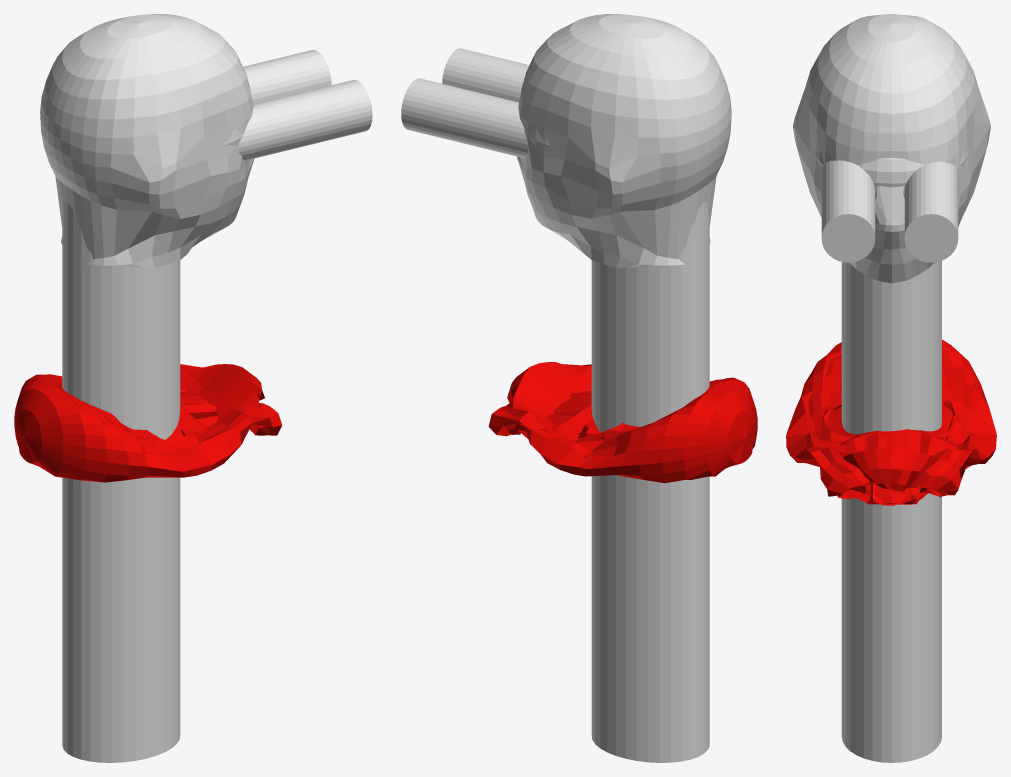
File: mask1.fbx
3 renders of one model, left to right at view 1: azimuth 30°, elevation 25°; view 2: azimuth 150°, elevation 25°; view 3: azimuth 270°, elevation 25°, orthographic.
Parts seen in each view (by area): view 1: Cylinder.002, Sphere.001, Sphere, Cylinder, Cylinder.001; view 2: Cylinder.002, Sphere.001, Sphere, Cylinder.001, Cylinder; view 3: Cylinder.002, Sphere.001, Sphere, Cylinder, Cylinder.001, Sphere.002.
Part boxes in pixels (left/top/right/bottom): Cylinder.002: left=62, top=202, right=180, bottom=762; Sphere.001: left=40, top=14, right=254, bottom=267; Sphere: left=14, top=364, right=282, bottom=482; Cylinder: left=238, top=79, right=372, bottom=160; Cylinder.001: left=243, top=49, right=331, bottom=103; Cylinder.002: left=591, top=202, right=709, bottom=762; Sphere.001: left=516, top=14, right=731, bottom=267; Sphere: left=488, top=362, right=757, bottom=482; Cylinder.001: left=401, top=78, right=527, bottom=158; Cylinder: left=442, top=48, right=529, bottom=102; Cylinder.002: left=841, top=261, right=941, bottom=762; Sphere.001: left=793, top=14, right=990, bottom=283; Sphere: left=786, top=339, right=996, bottom=505; Cylinder: left=821, top=160, right=875, bottom=262; Cylinder.001: left=904, top=161, right=958, bottom=262; Sphere.002: left=815, top=149, right=969, bottom=197.
Bounding box in the file's own units: 256 × 557 × 148.
